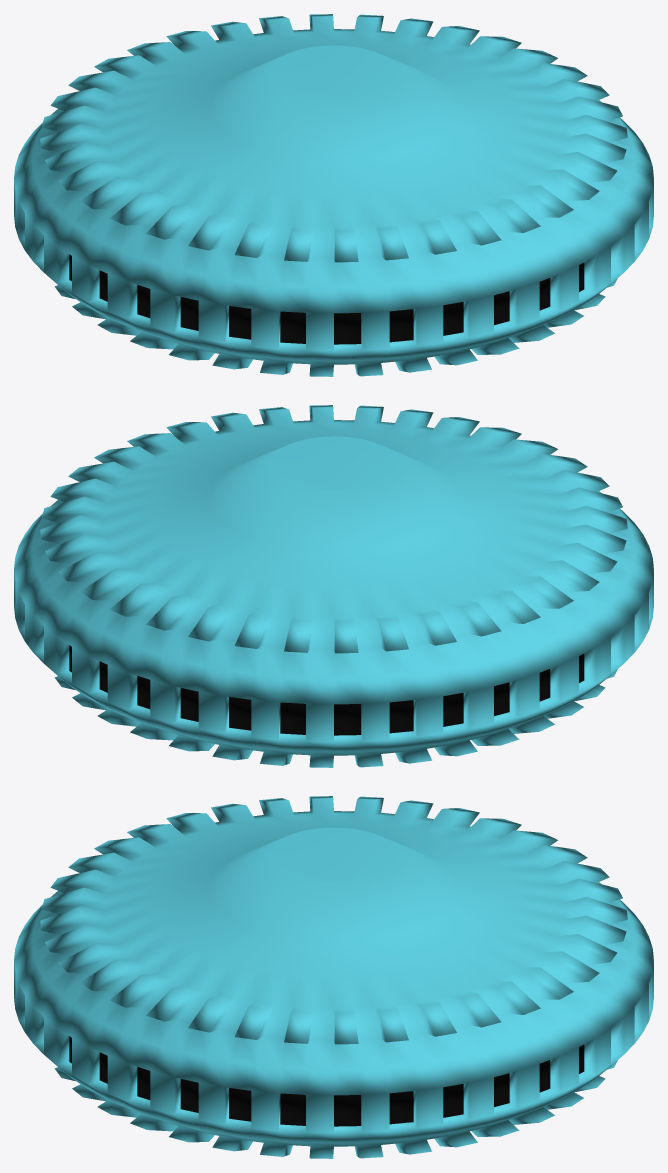
3 renders of one model, top to bottom at view 1: azimuth 30°, elevation 25°; view 2: azimuth 150°, elevation 25°; view 3: azimuth 270°, elevation 25°, orthographic.
Parts seen in each view (by area): view 1: Sphere; view 2: Sphere; view 3: Sphere.
Part boxes in pixels (x1=…): Sphere: x1=14, y1=14, x2=653, y2=376; Sphere: x1=14, y1=405, x2=653, y2=767; Sphere: x1=14, y1=796, x2=653, y2=1158.
Size of the model in its own units: 1.96 by 0.6903 by 1.96.
